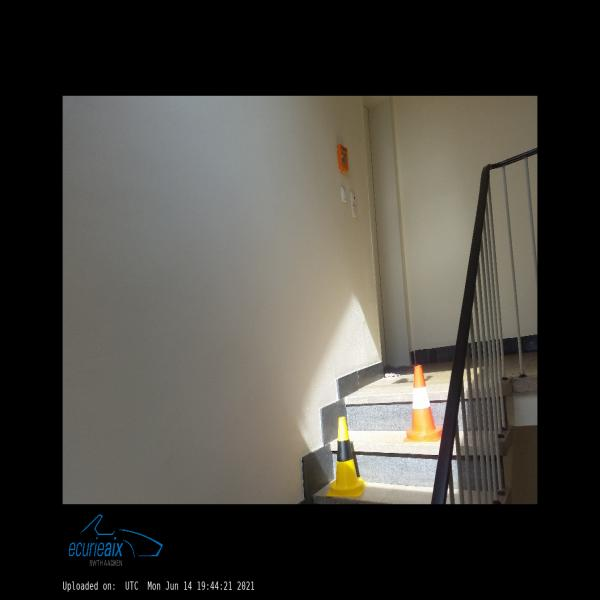orange_cone: (403, 365, 442, 442)
yellow_cone: (327, 417, 366, 497)
